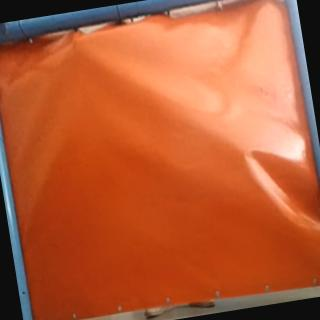Hit-hRxx: (70, 35, 88, 48)
